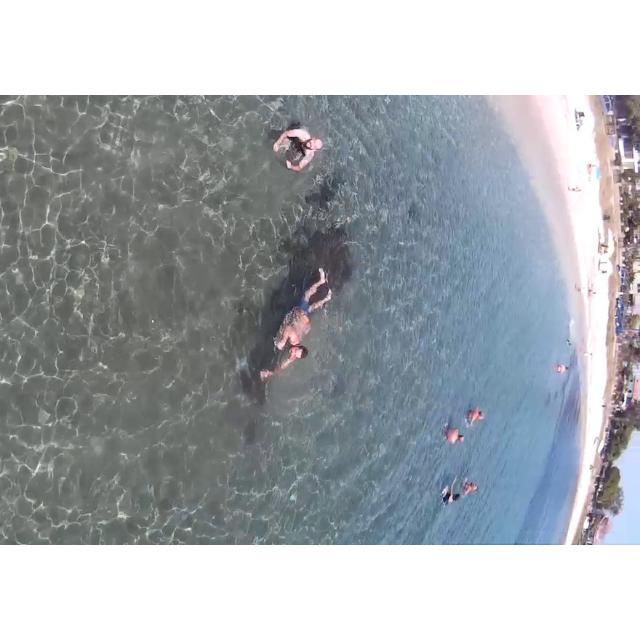human: (255, 235, 345, 411), (267, 110, 341, 188), (460, 391, 491, 436), (446, 475, 467, 520), (438, 418, 462, 447), (462, 474, 480, 505), (556, 360, 573, 382)
